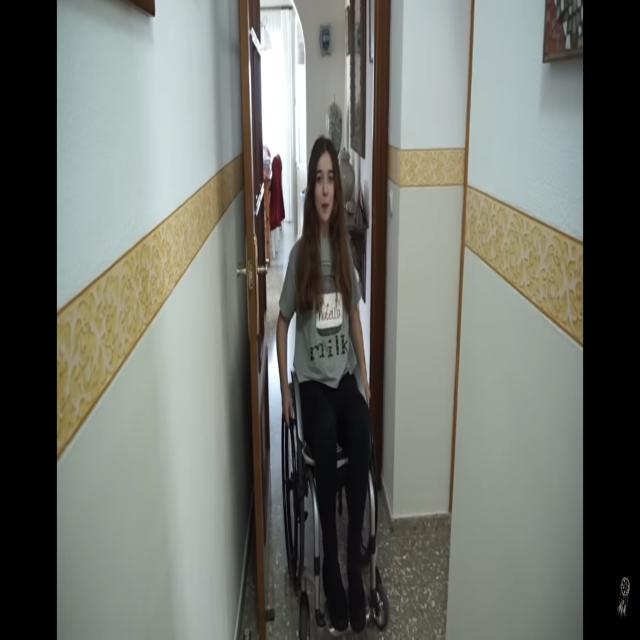wheelchairs: (279, 353, 391, 640)
